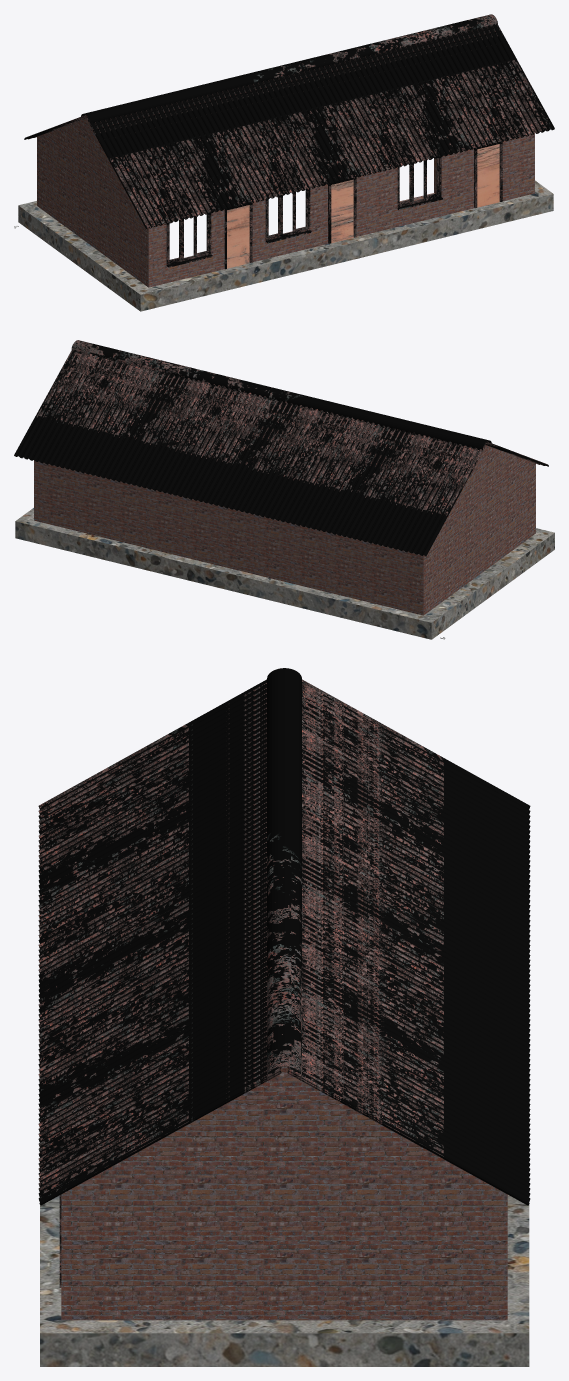
File: Old Block.fbx
3 renders of one model, top to bottom at view 1: azimuth 30°, elevation 25°; view 2: azimuth 150°, elevation 25°; view 3: azimuth 270°, elevation 25°, orthographic. The views are drawn at different scales.
Visible parts, largest first — view 1: Roof, Walls, Slab, Cylinder; view 2: Roof, Walls, Slab, Cylinder; view 3: Roof, Walls, Slab, Cylinder.
Part boxes in pixels (x1,y1,x2,y2): Roof: (24,24,554,269); Walls: (37,118,534,287); Slab: (18,144,553,311); Cylinder: (81,14,497,123); Roof: (14,350,548,556); Walls: (34,445,535,615); Slab: (15,508,554,639); Cylinder: (71,340,491,450); Roof: (38,679,530,1287); Walls: (61,1066,507,1320); Slab: (40,1013,529,1366); Cylinder: (267,668,301,1078).
Size of the model in its own units: 1533 by 525 by 771.
Materials: 4 (4 with a texture image).
